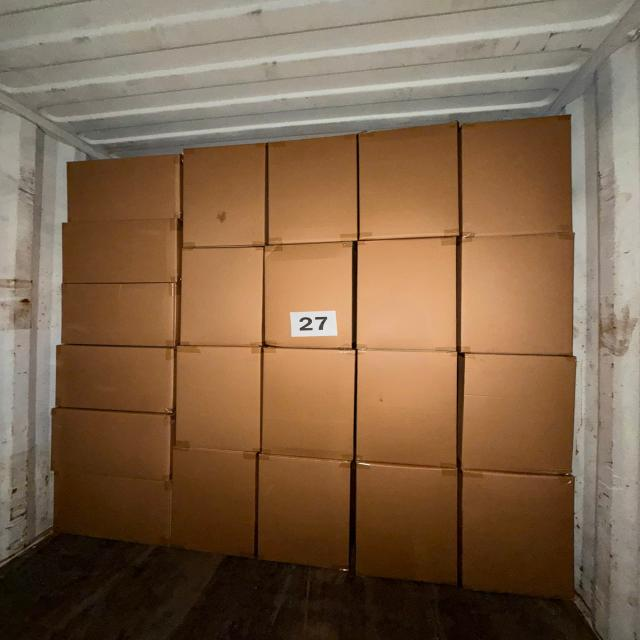Carton: (462, 469, 573, 603), (460, 232, 575, 354), (456, 115, 570, 234), (352, 460, 456, 588), (463, 353, 569, 475), (355, 348, 457, 470), (358, 122, 460, 240), (358, 237, 458, 352), (257, 453, 349, 573), (261, 345, 355, 462), (168, 444, 257, 562), (267, 135, 358, 246), (263, 241, 355, 350), (174, 344, 260, 454), (49, 472, 169, 550), (46, 407, 172, 480), (180, 244, 267, 348), (180, 147, 268, 248), (56, 344, 172, 414), (64, 153, 181, 220), (61, 283, 178, 350), (58, 221, 181, 283)
